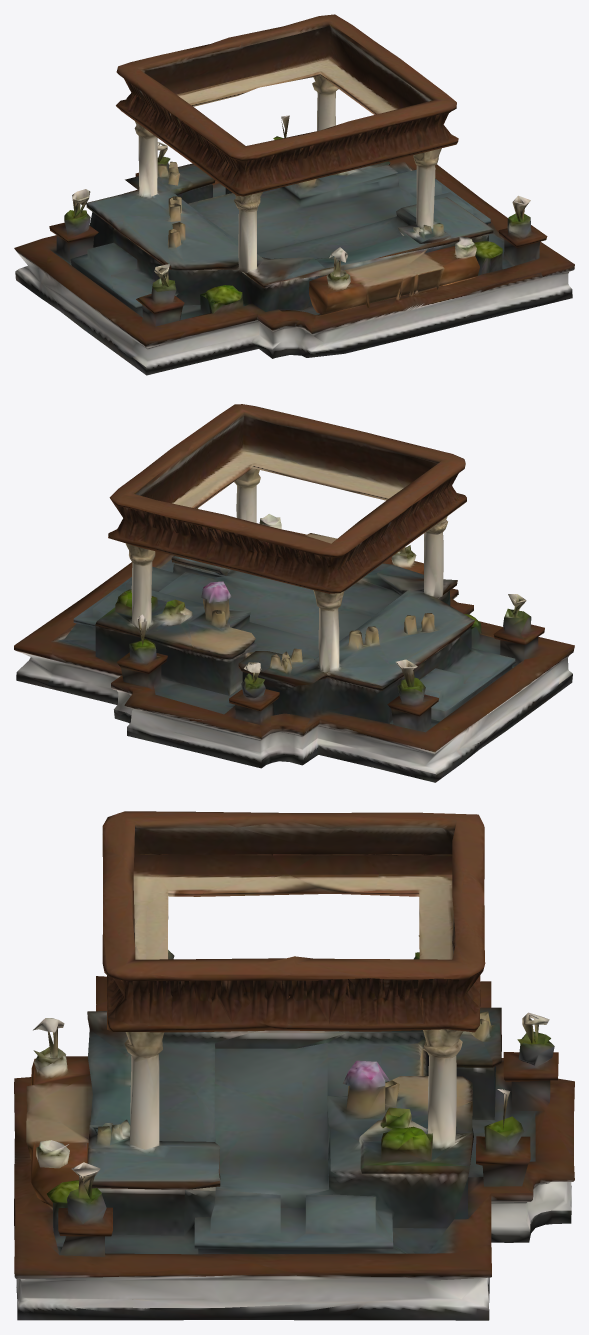
File: taman_lobby.glb
3 renders of one model, top to bottom at view 1: azimuth 30°, elevation 25°; view 2: azimuth 150°, elevation 25°; view 3: azimuth 270°, elevation 25°, orthographic. The views are drawn at different scales.
Visible parts, largest first — view 1: tripo_node_ebc49617-bec2-4e84-8ed3-4acc5b8441b3; view 2: tripo_node_ebc49617-bec2-4e84-8ed3-4acc5b8441b3; view 3: tripo_node_ebc49617-bec2-4e84-8ed3-4acc5b8441b3.
Boxes of the visible parts, box(x1,y1,x2,y2) form: tripo_node_ebc49617-bec2-4e84-8ed3-4acc5b8441b3: box(14, 14, 574, 375); tripo_node_ebc49617-bec2-4e84-8ed3-4acc5b8441b3: box(14, 404, 574, 782); tripo_node_ebc49617-bec2-4e84-8ed3-4acc5b8441b3: box(14, 811, 574, 1320).
Bounding box in the file's own units: 1 × 0.4665 × 0.8089.
Materials: 1 (1 with a texture image).
